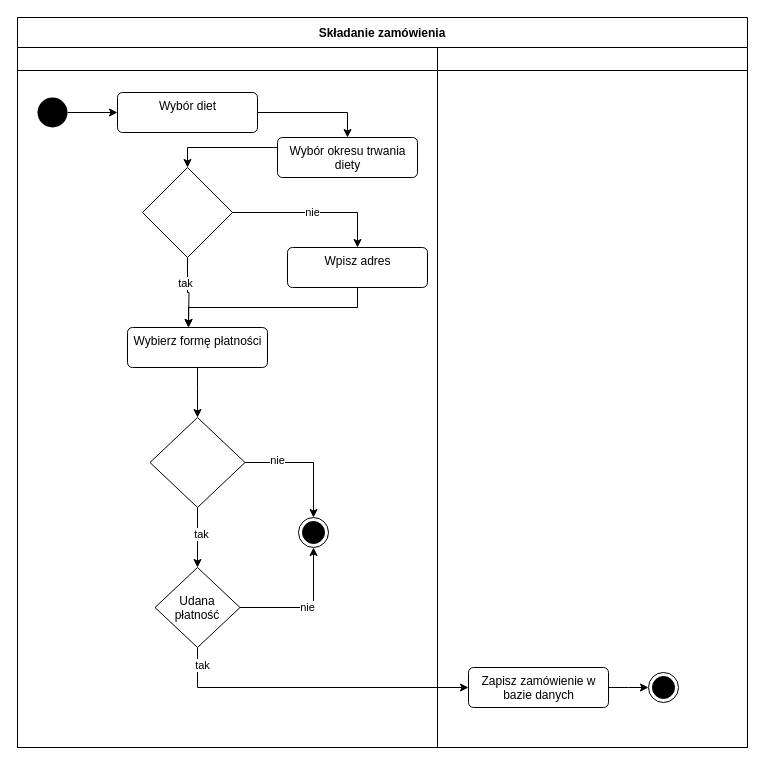
This 765x765 diagram has some shape labels left out. The box of each missing label's shape, as (x1, y1, x2, y2) in pixels:
Domyślny adres?: (142, 166, 232, 258)
Moduł bazy: (436, 46, 748, 748)
Moduł klienta: (16, 46, 438, 748)
Zapłacono: (149, 416, 245, 508)
